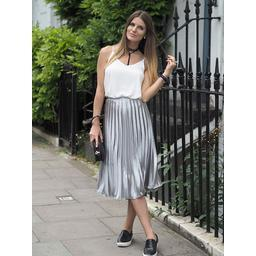Tshirt: (104, 44, 148, 100)
skirt: (96, 93, 164, 198)
